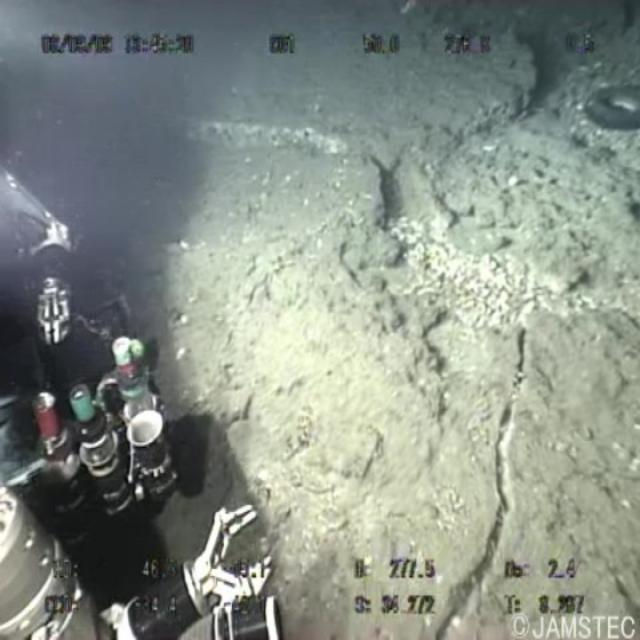Rubber: (571, 58, 640, 174)
